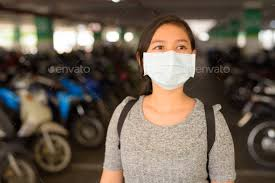with-mask: (138, 17, 199, 98)
